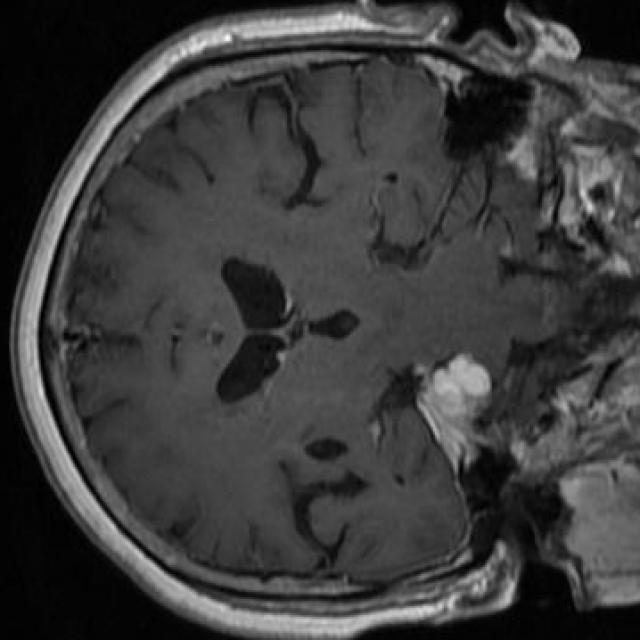meningioma: (417, 358, 490, 474)
